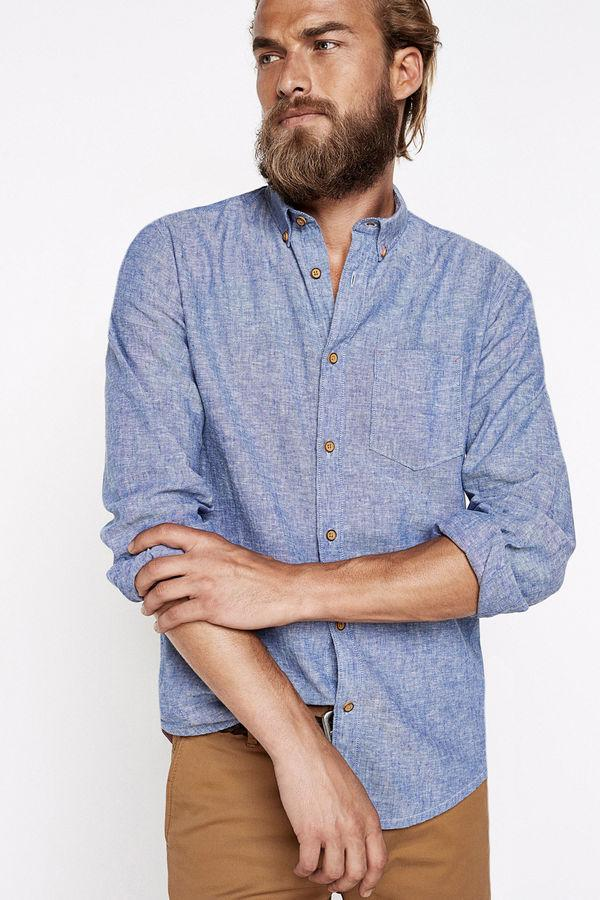teeshirt: (92, 173, 583, 823)
